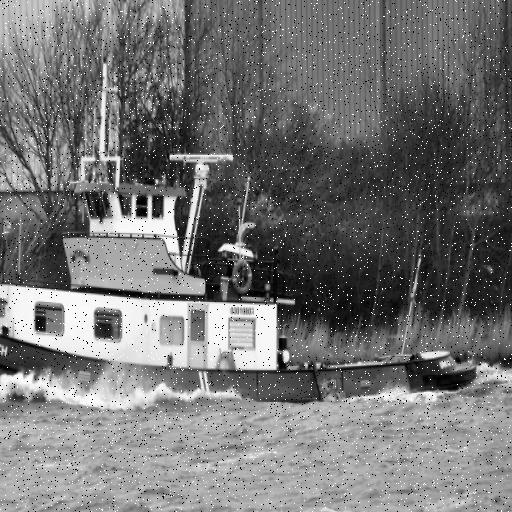tugboat: (1, 56, 489, 427)
